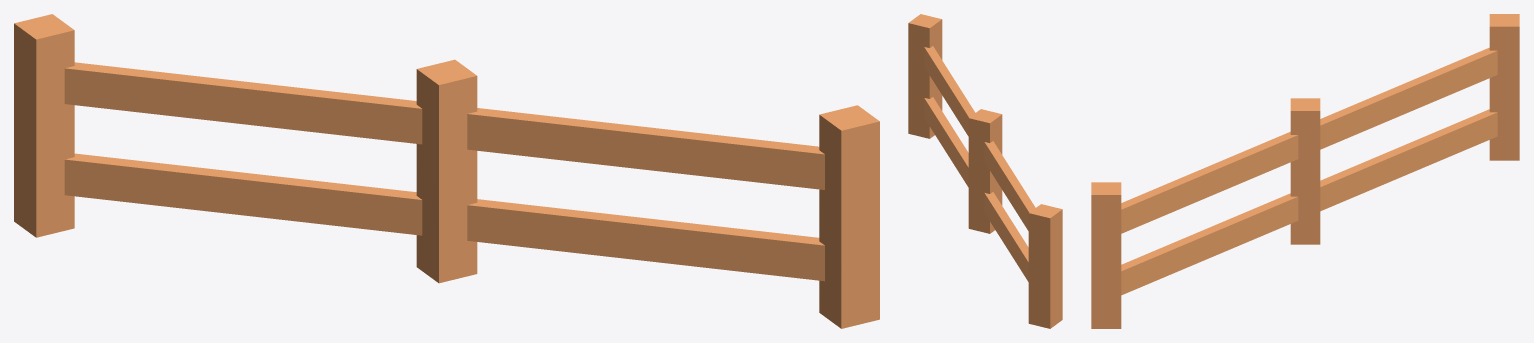
File: fence_diagonalStrong.obj
3 views of the same model, side by side, from view 1: azimuth 30°, elevation 25°; view 2: azimuth 150°, elevation 25°; view 3: azimuth 270°, elevation 25° (orthographic). The views are drawn at different scales.
Visible parts, largest first — view 1: fence_diagonalStrong; view 2: fence_diagonalStrong; view 3: fence_diagonalStrong.
Part boxes in pixels (bbox=[...]): fence_diagonalStrong: bbox=[14, 14, 879, 328]; fence_diagonalStrong: bbox=[908, 14, 1062, 328]; fence_diagonalStrong: bbox=[1091, 14, 1519, 328].
Size of the model in its own units: 10 by 3.45 by 10.
